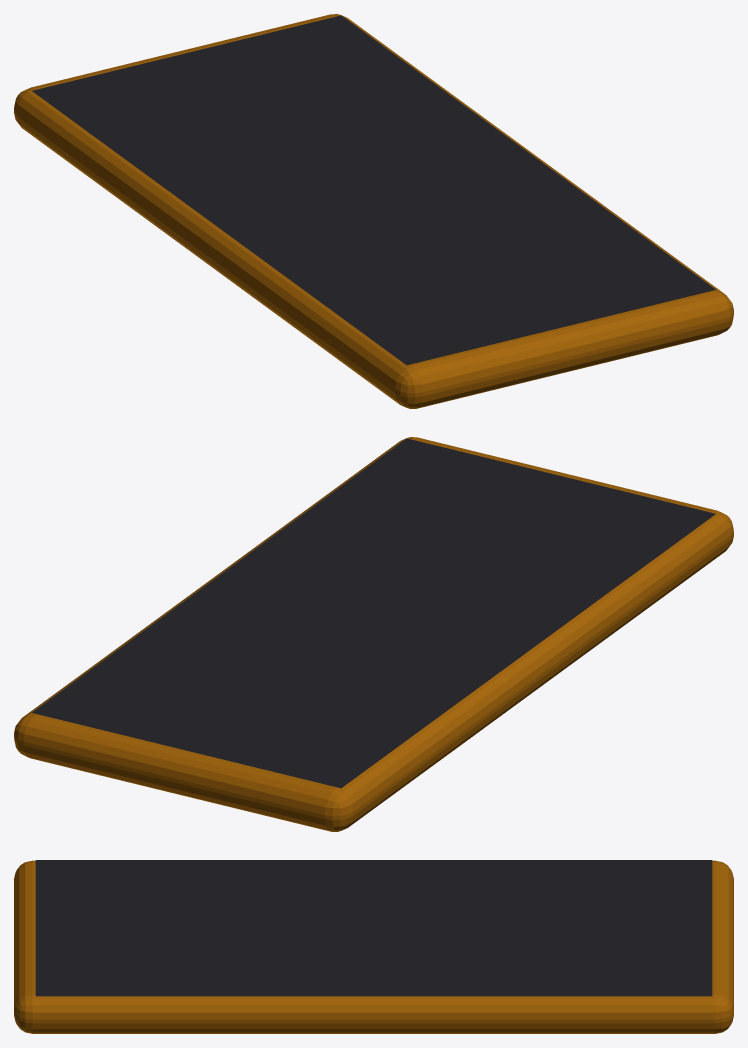
Rendered from poco-gen-2022-budget-2022.glb.
3 views of the same model, one above another, from view 1: azimuth 30°, elevation 25°; view 2: azimuth 150°, elevation 25°; view 3: azimuth 270°, elevation 25° (orthographic). The views are drawn at different scales.
Parts seen in each view (by area): view 1: Phone_Screen, Phone_Body; view 2: Phone_Screen, Phone_Body; view 3: Phone_Screen, Phone_Body.
Boxes of the visible parts, x1,y1,x2,y2 form: Phone_Screen: (32,15,715,365); Phone_Body: (14,14,733,408); Phone_Screen: (32,438,715,788); Phone_Body: (14,437,733,831); Phone_Screen: (35,860,712,996); Phone_Body: (14,860,733,1033).
Size of the model in its own units: 0.0708 by 0.0084 by 0.1454.
